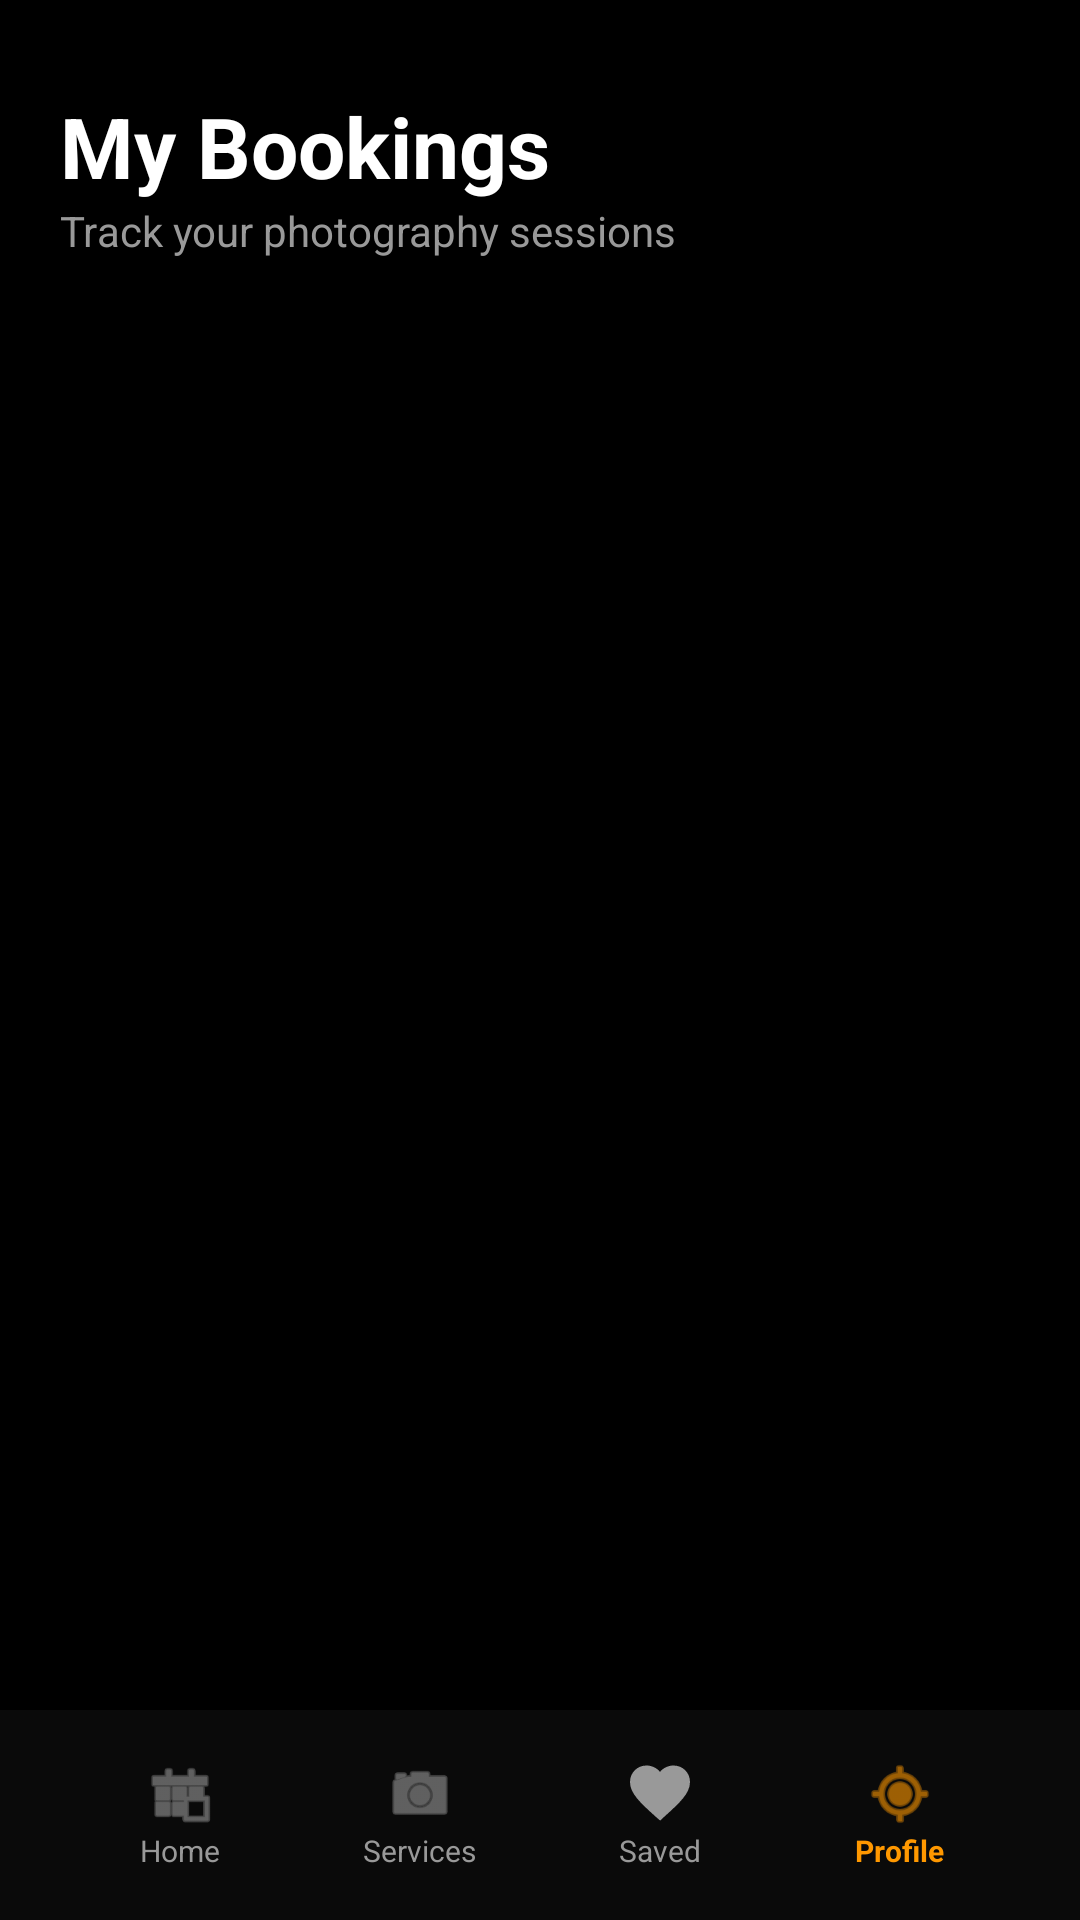

Named icons in this screenshot (1080 × 1920) and their centers, point (x, y):
camera: point (420, 1793)
heart: point (660, 1793)
mylocation: point (900, 1794)
today: point (180, 1795)
